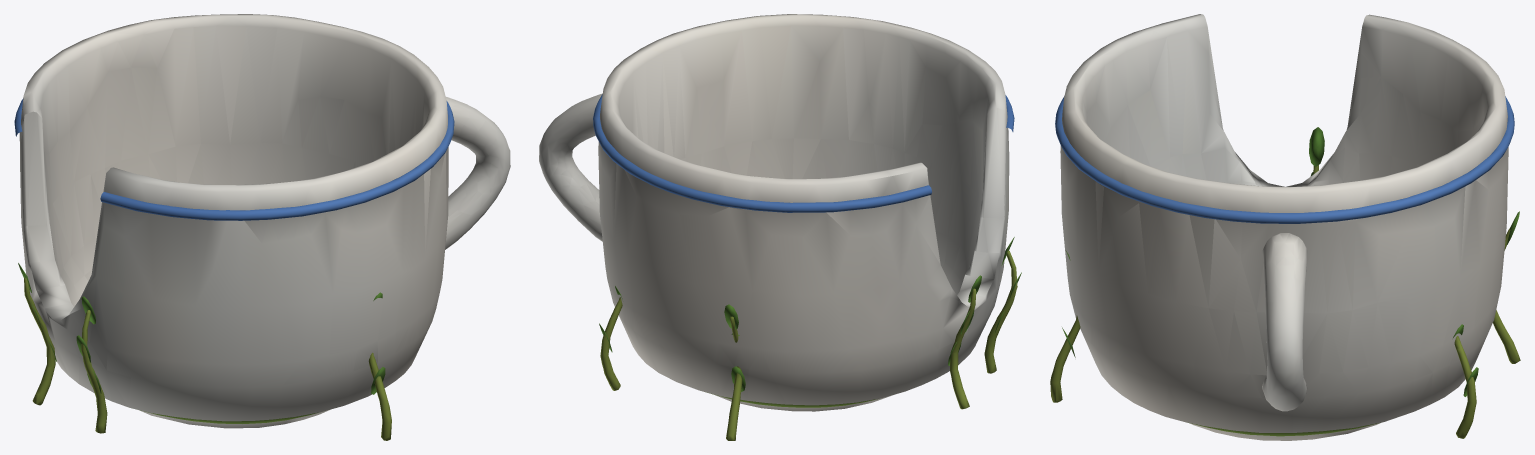
File: mire_teacup_lod1.glb
The picture shows the model from 3 angles, left to right: view 1: azimuth 30°, elevation 25°; view 2: azimuth 150°, elevation 25°; view 3: azimuth 270°, elevation 25°; orthographic projection. The views are drawn at different scales.
Parts seen in each view (by area): view 1: mire_teacup.001; view 2: mire_teacup.001; view 3: mire_teacup.001.
Part boxes in pixels (left/top/right/bottom): mire_teacup.001: left=14, top=14, right=510, bottom=440; mire_teacup.001: left=539, top=14, right=1021, bottom=440; mire_teacup.001: left=1050, top=14, right=1520, bottom=440.
Size of the model in its own units: 15.51 by 8.67 by 12.77.
